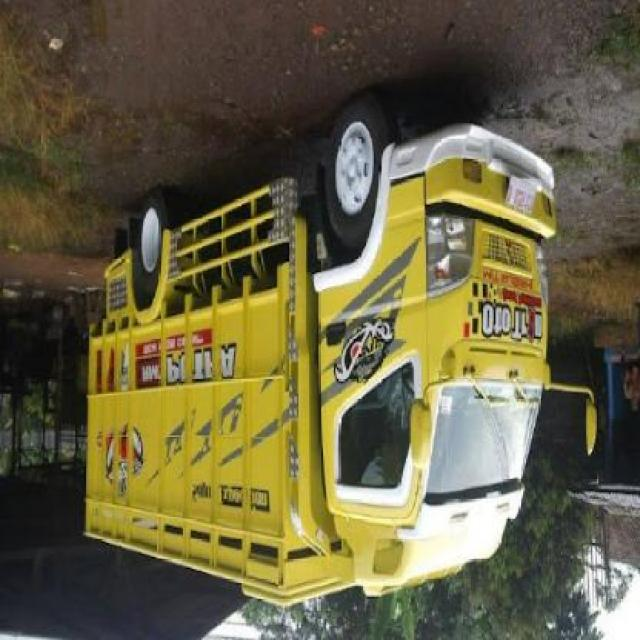truck: (87, 98, 598, 607)
